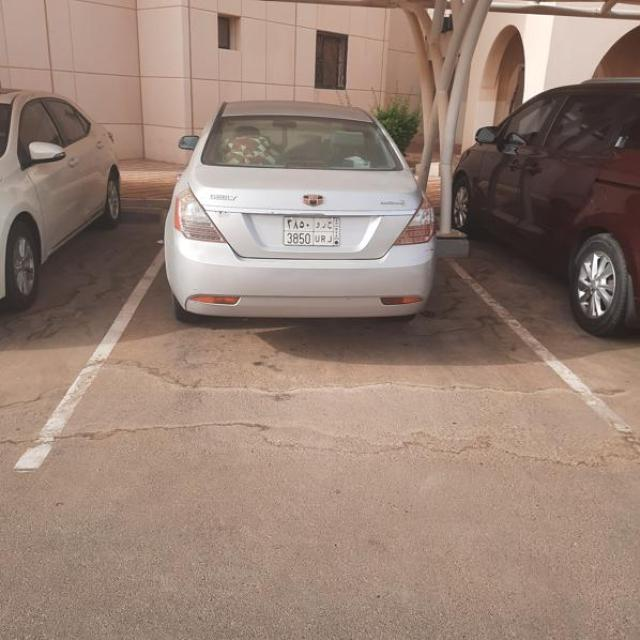license_plate: (283, 215, 340, 247)
